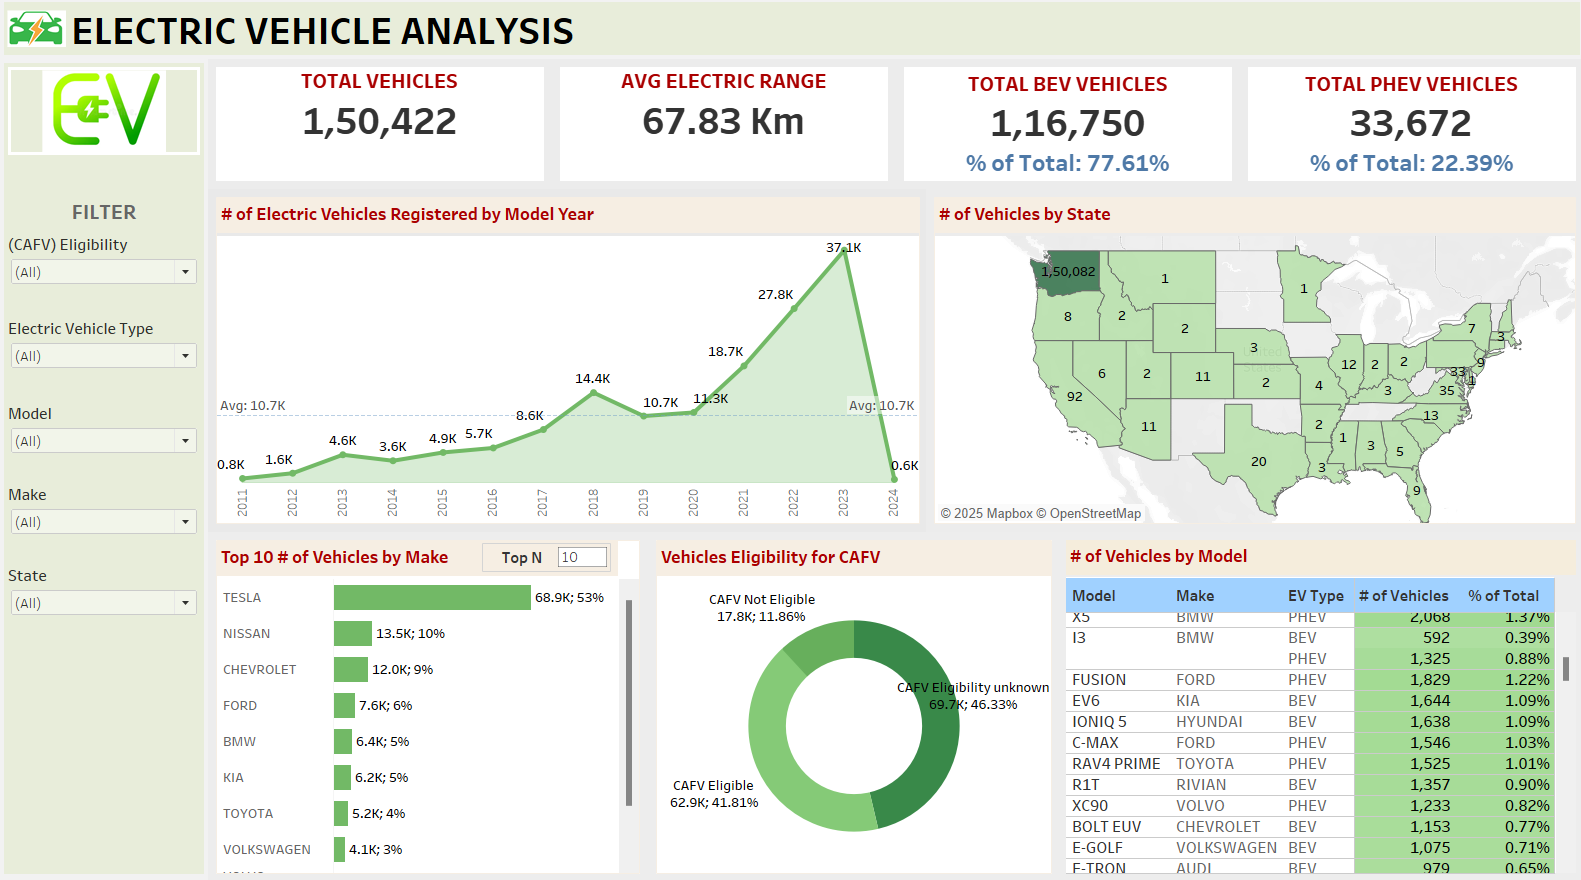

Layout of this report page (visuals, bound fields, positions):
{"tool":"tableau","page":{"name":"ELECTRIC VEHICLE ANALYSIS","canvas":[1600,900],"ordinal":0},"visuals":[{"type":"title","box":[8,8,1584,61]},{"type":"image","param":"Image/ev pic.png","box":[15,13,59,51]},{"type":"worksheet","title":"Total Vehicles","mark":"Automatic","box":[216,69,344,130]},{"type":"worksheet","title":"Average Electric Range","mark":"Automatic","box":[560,69,344,130]},{"type":"worksheet","title":"BEV Vehicles","mark":"Automatic","box":[904,69,344,130]},{"type":"worksheet","title":"PHEV Vehicles","mark":"Automatic","box":[1248,69,344,130]},{"type":"image","param":"Image/ev logo.png","box":[12,73,200,96]},{"type":"blank","box":[12,169,200,32]},{"type":"worksheet","title":"Model year","mark":"Area","rows":["Calculation_637822353996984320","Calculation_637822353996984320"],"cols":["Model Year"],"box":[216,199,718,343]},{"type":"worksheet","title":"State","mark":"Multipolygon","box":[934,199,658,343]},{"type":"text","box":[12,201,200,39]},{"type":"filter","title":"State","param":"[federated.1060h2j18wnsqo118sfyp0ka1mfh].[none:Clean Alternative Fuel Vehicle (C","box":[12,240,200,84]},{"type":"filter","title":"State","param":"[federated.1060h2j18wnsqo118sfyp0ka1mfh].[none:Electric Vehicle Type:nk]","box":[12,324,200,85]},{"type":"filter","title":"State","param":"[federated.1060h2j18wnsqo118sfyp0ka1mfh].[none:Model:nk]","box":[12,409,200,81]},{"type":"filter","title":"State","param":"[federated.1060h2j18wnsqo118sfyp0ka1mfh].[none:Make:nk]","box":[12,490,200,81]},{"type":"worksheet","title":"Make","mark":"Bar","rows":["Calculation_642607432440721408"],"cols":["Calculation_637822353996984320"],"box":[216,542,440,350]},{"type":"worksheet","title":"CAFV","mark":"Pie","rows":["Calculation_637822353998311426","Calculation_637822353998311426"],"box":[656,542,410,350]},{"type":"worksheet","title":"# of Vehicles by Model","mark":"Square","rows":["Model","Make","Calculation_463026395408867328"],"box":[1066,542,526,350]},{"type":"parameter","param":"[Parameters].[Parameter 1]","box":[490,553,129,29]},{"type":"filter","title":"State","param":"[federated.1060h2j18wnsqo118sfyp0ka1mfh].[none:State:nk]","box":[12,571,200,61]},{"type":"blank","box":[12,632,200,84]},{"type":"blank","box":[12,716,200,84]},{"type":"blank","box":[12,800,200,84]},{"type":"legend","title":"Make","param":"[federated.1060h2j18wnsqo118sfyp0ka1mfh].[none:Electric Vehicle Type:nk]","box":[1280,810,280,72]}]}

Visuals, with their boxes in screenshot pixels (x1, y1, x2, y2), scaled from the page's 1600x900 canvas onto the 1581x880 screenshot:
title: [x1=8, y1=8, x2=1573, y2=67]
image: [x1=15, y1=13, x2=73, y2=63]
"Total Vehicles" worksheet: [x1=213, y1=67, x2=553, y2=195]
"Average Electric Range" worksheet: [x1=553, y1=67, x2=893, y2=195]
"BEV Vehicles" worksheet: [x1=893, y1=67, x2=1233, y2=195]
"PHEV Vehicles" worksheet: [x1=1233, y1=67, x2=1573, y2=195]
image: [x1=12, y1=71, x2=209, y2=165]
blank: [x1=12, y1=165, x2=209, y2=197]
"Model year" worksheet (Area marks): [x1=213, y1=195, x2=923, y2=530]
"State" worksheet (Multipolygon marks): [x1=923, y1=195, x2=1573, y2=530]
text: [x1=12, y1=197, x2=209, y2=235]
"State" filter: [x1=12, y1=235, x2=209, y2=317]
"State" filter: [x1=12, y1=317, x2=209, y2=400]
"State" filter: [x1=12, y1=400, x2=209, y2=479]
"State" filter: [x1=12, y1=479, x2=209, y2=558]
"Make" worksheet (Bar marks): [x1=213, y1=530, x2=648, y2=872]
"CAFV" worksheet (Pie marks): [x1=648, y1=530, x2=1053, y2=872]
"# of Vehicles by Model" worksheet (Square marks): [x1=1053, y1=530, x2=1573, y2=872]
parameter: [x1=484, y1=541, x2=612, y2=569]
"State" filter: [x1=12, y1=558, x2=209, y2=618]
blank: [x1=12, y1=618, x2=209, y2=700]
blank: [x1=12, y1=700, x2=209, y2=782]
blank: [x1=12, y1=782, x2=209, y2=864]
"Make" legend: [x1=1265, y1=792, x2=1541, y2=862]
